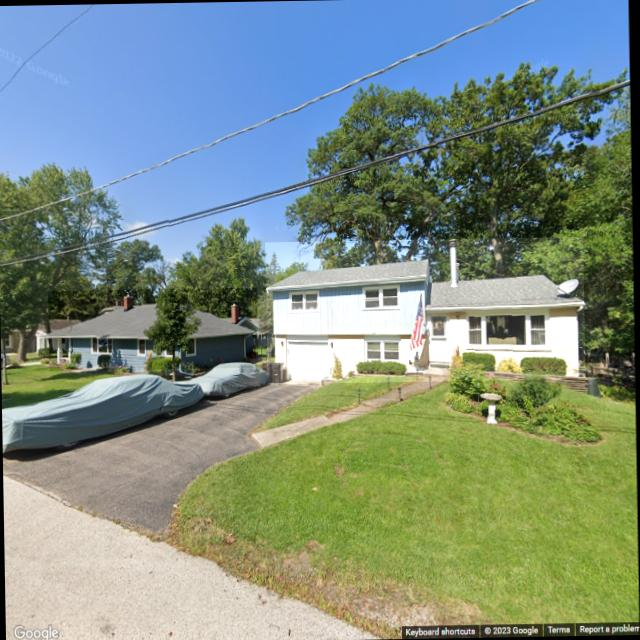House: (265, 236, 585, 384), (47, 287, 258, 371)
